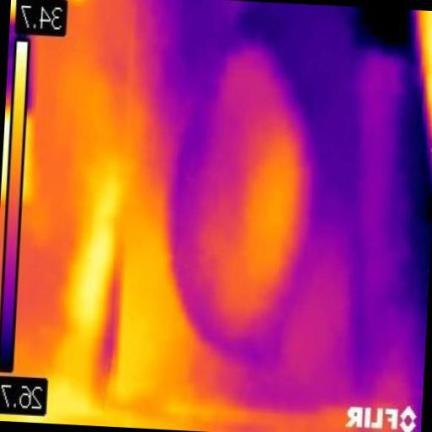mango: (174, 46, 311, 354)
